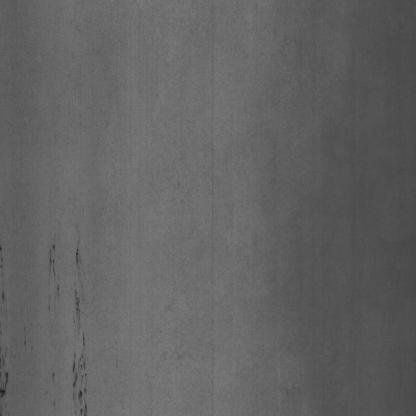inclusion: (65, 253, 94, 416), (0, 257, 10, 416), (45, 245, 63, 317)
